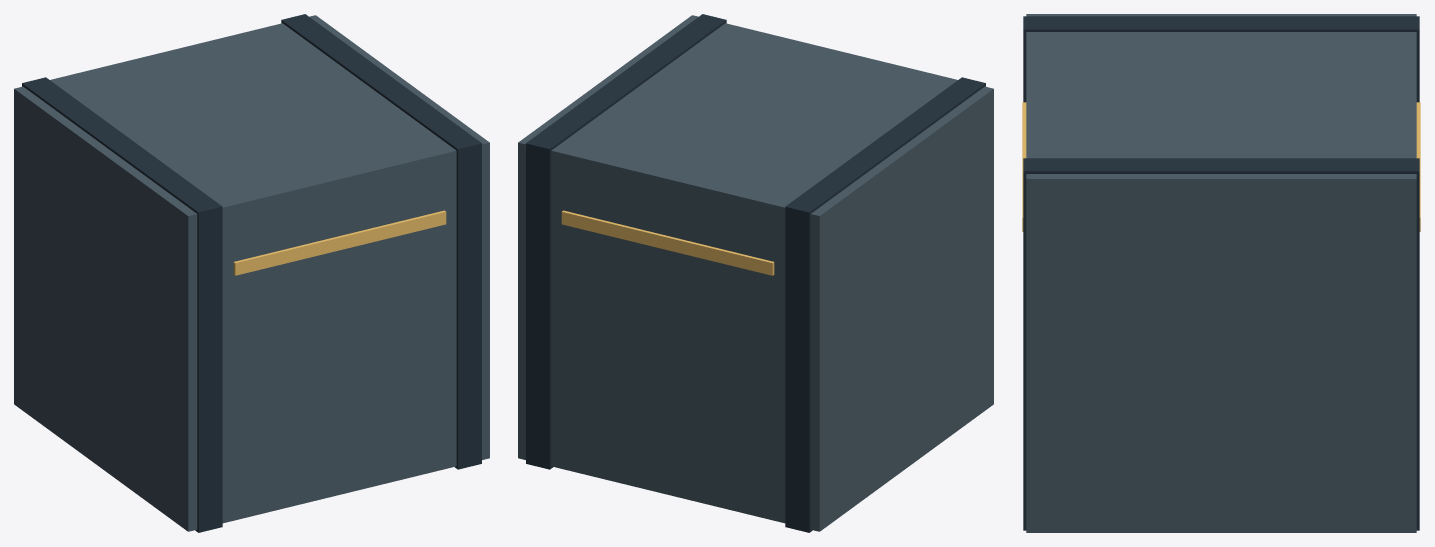
Rendered from terrain-wall.glb.
3 views of the same model, side by side, from view 1: azimuth 30°, elevation 25°; view 2: azimuth 150°, elevation 25°; view 3: azimuth 270°, elevation 25° (orthographic). The views are drawn at different scales.
Visible parts, largest first — view 1: terrain-wall; view 2: terrain-wall; view 3: terrain-wall.
Boxes of the visible parts, x1,y1,x2,y2 form: terrain-wall: [14, 14, 489, 532]; terrain-wall: [518, 14, 993, 532]; terrain-wall: [1022, 14, 1420, 532].
Size of the model in its own units: 1 by 1.01 by 1.02.
